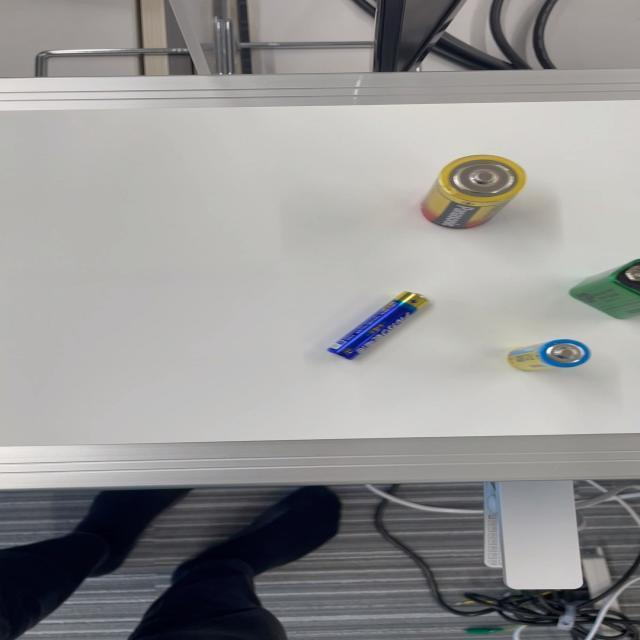9V: (566, 255, 640, 320)
